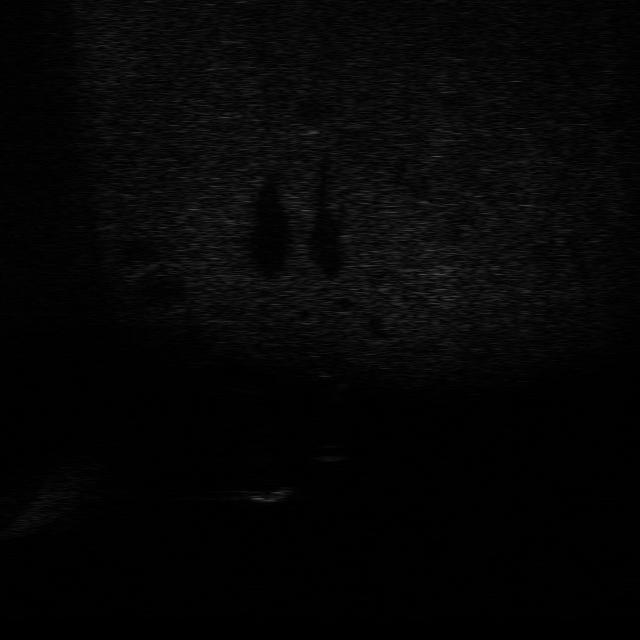ball: (306, 438, 356, 466)
human body: (300, 349, 348, 410)
square cage: (232, 479, 298, 504)
